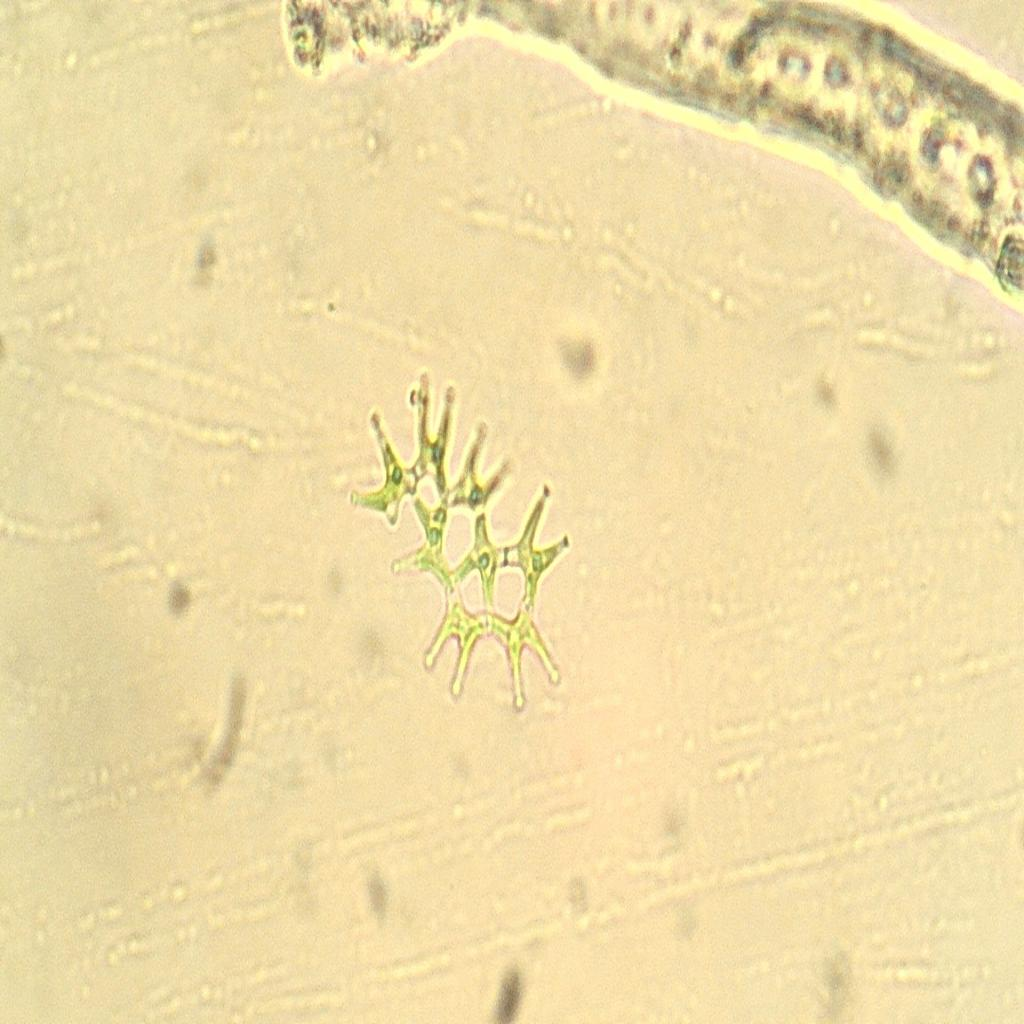Pediastrum_CFI: (338, 346, 586, 746)
